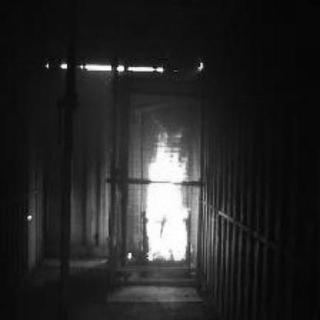other: (26, 211, 32, 221)
